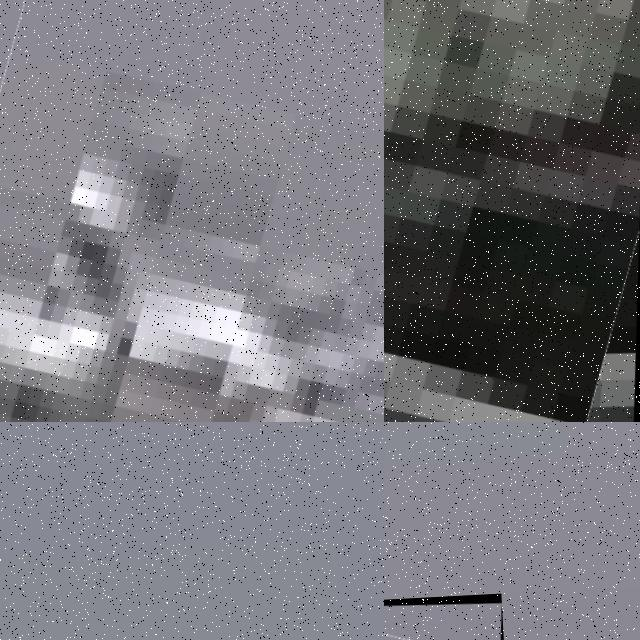0: (0, 0, 384, 422)
drone: (384, 0, 640, 422)
